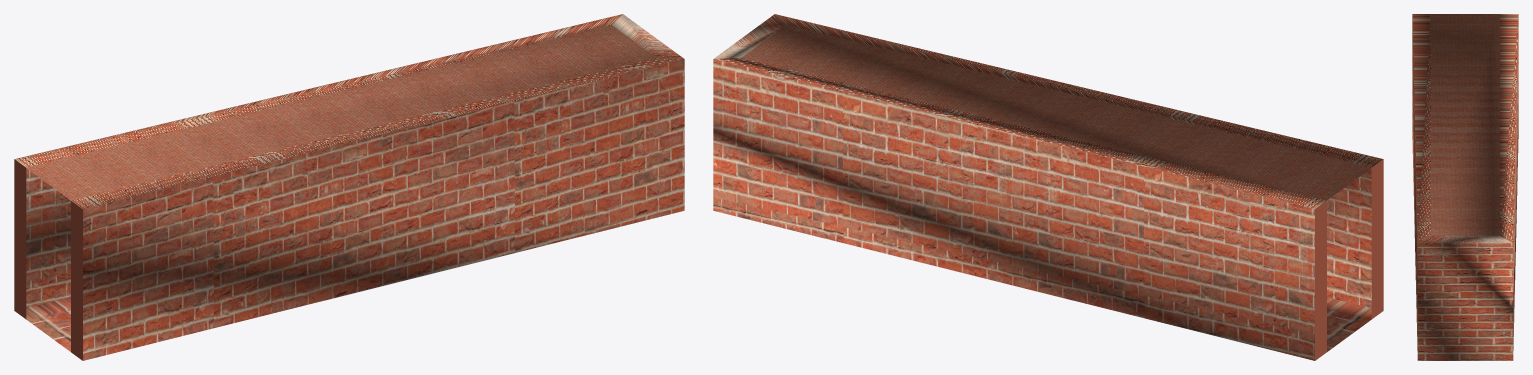
Rendered from secret room.glb.
3 views of the same model, side by side, from view 1: azimuth 30°, elevation 25°; view 2: azimuth 150°, elevation 25°; view 3: azimuth 270°, elevation 25° (orthographic). The views are drawn at different scales.
Parts seen in each view (by area): view 1: Cube.346; view 2: Cube.346; view 3: Cube.346.
Boxes of the visible parts, box(x1,y1,x2,y2) form: Cube.346: box(14, 14, 684, 360); Cube.346: box(713, 14, 1383, 360); Cube.346: box(1412, 14, 1518, 360).
Size of the model in its own units: 17.34 by 4.15 by 3.4.
1 material, 1 textured.
